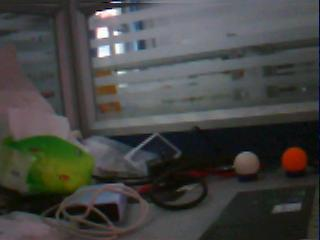oball: (281, 147, 307, 170)
